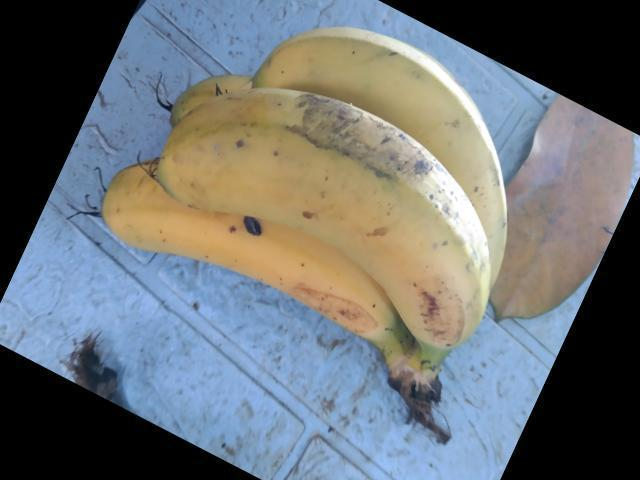ripe: (167, 88, 516, 365)
